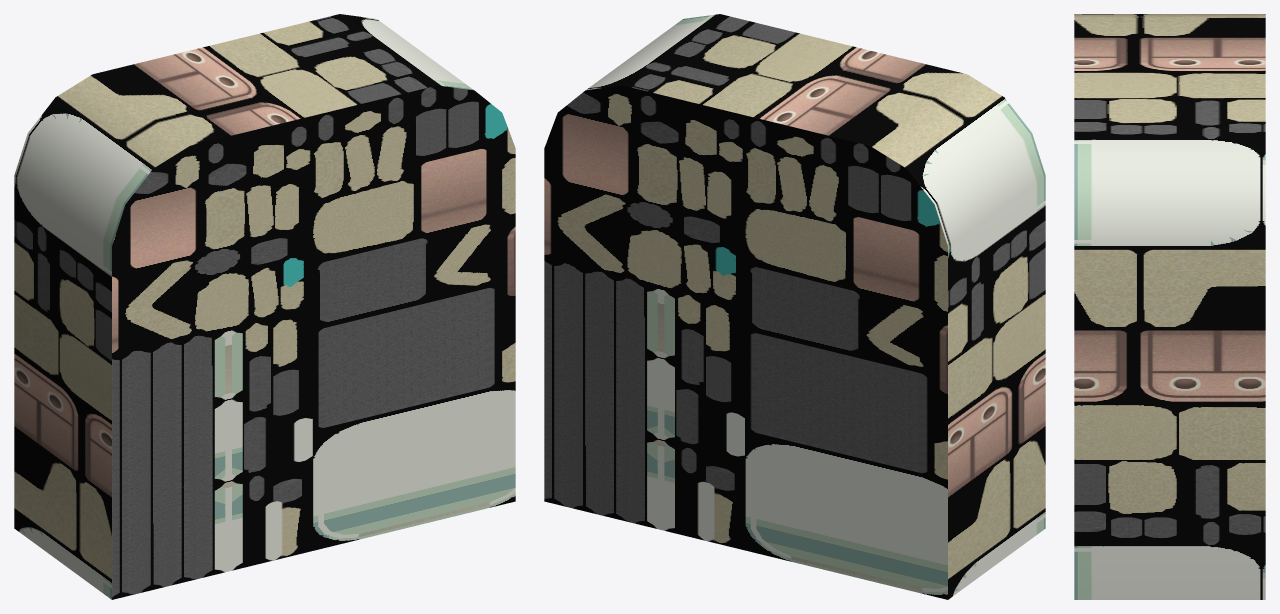
The model's file is Misc_Trash_Can.fbx.
3 views of the same model, side by side, from view 1: azimuth 30°, elevation 25°; view 2: azimuth 150°, elevation 25°; view 3: azimuth 270°, elevation 25° (orthographic). The views are drawn at different scales.
Visible parts, largest first — view 1: Trash_Can; view 2: Trash_Can; view 3: Trash_Can.
Part boxes in pixels (left/top/right/bottom): Trash_Can: left=14, top=14, right=515, bottom=599; Trash_Can: left=544, top=14, right=1045, bottom=599; Trash_Can: left=1074, top=14, right=1265, bottom=599.
Size of the model in its own units: 116 by 120 by 48.6.
